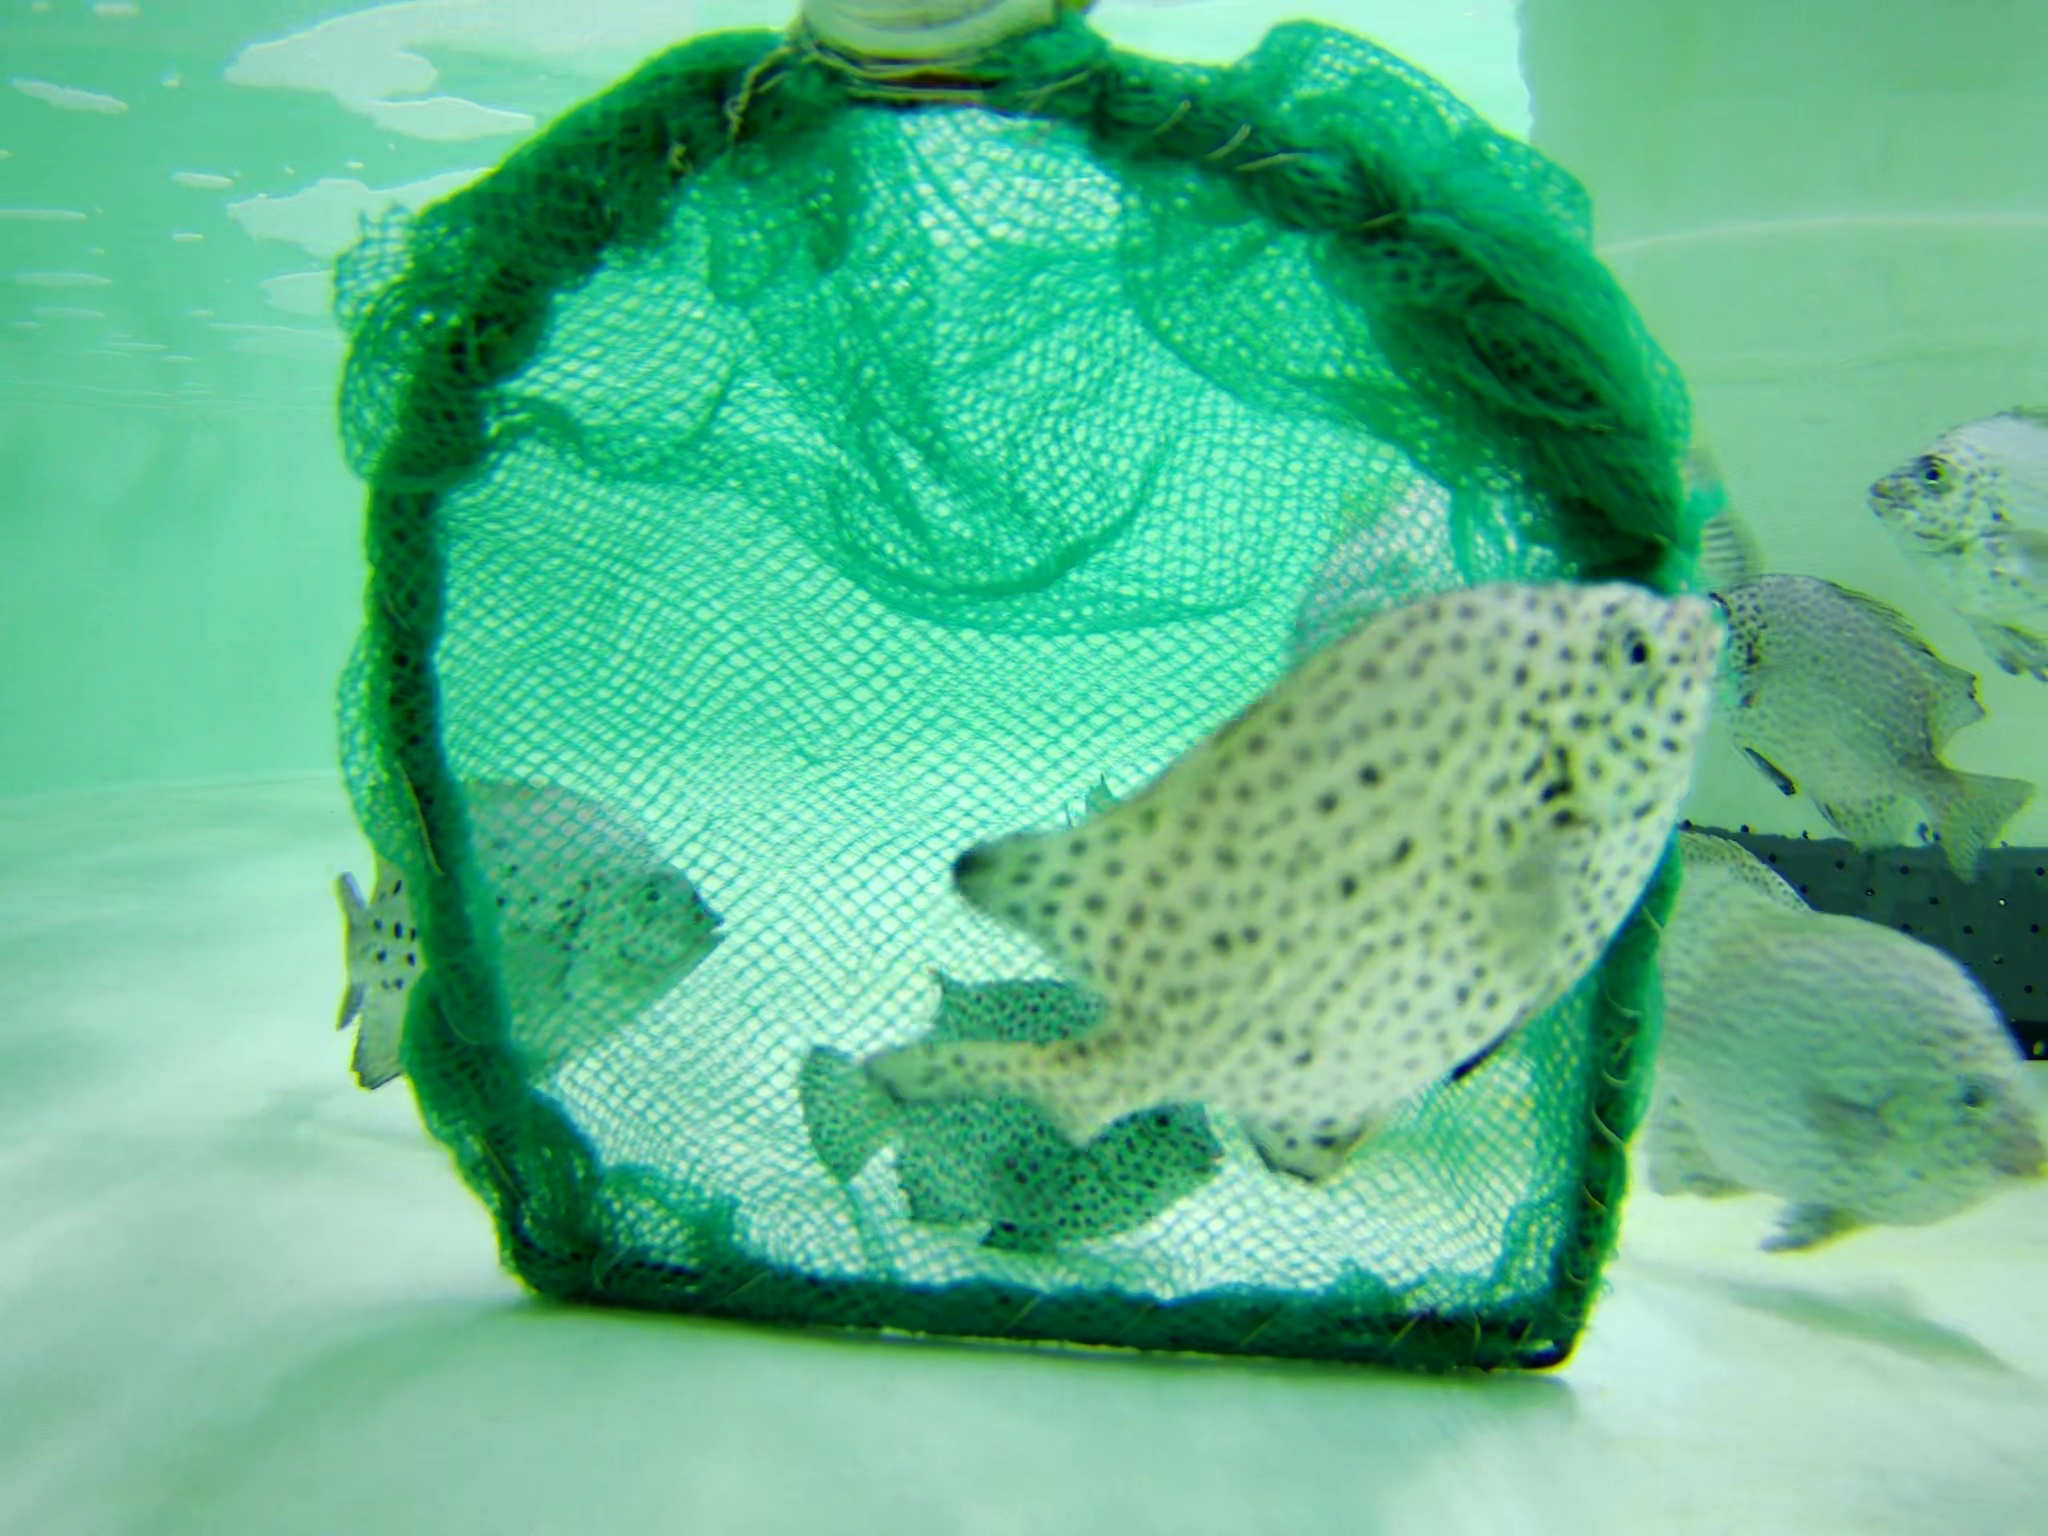fish: (939, 571, 1730, 1176), (339, 755, 722, 1112), (1671, 881, 2046, 1239), (811, 986, 1230, 1252), (1698, 553, 2037, 871), (1869, 403, 2048, 741)
